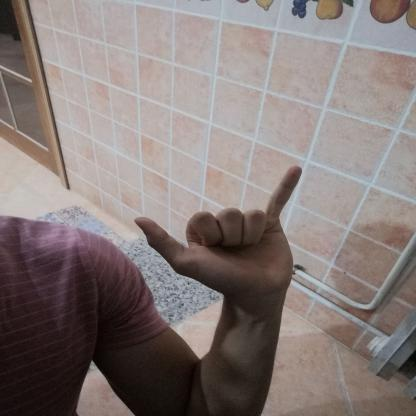YA: (120, 157, 318, 309)
